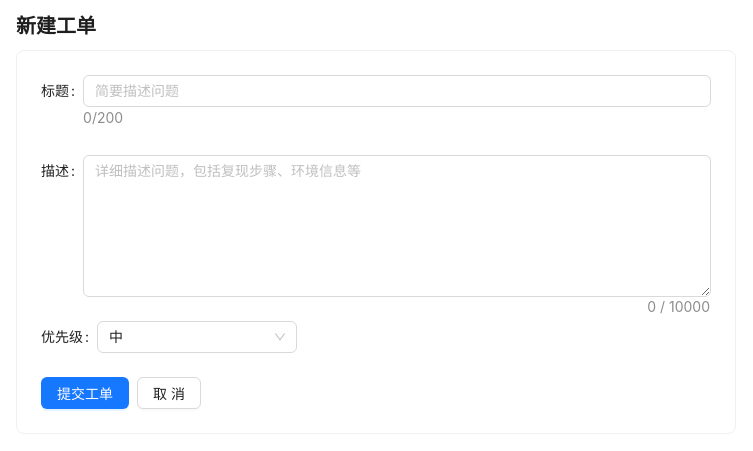
Scenario: NewTicketPage › shows validation errors for empty form
Click the button "提交工单": [85, 393] box [41,377,129,409]
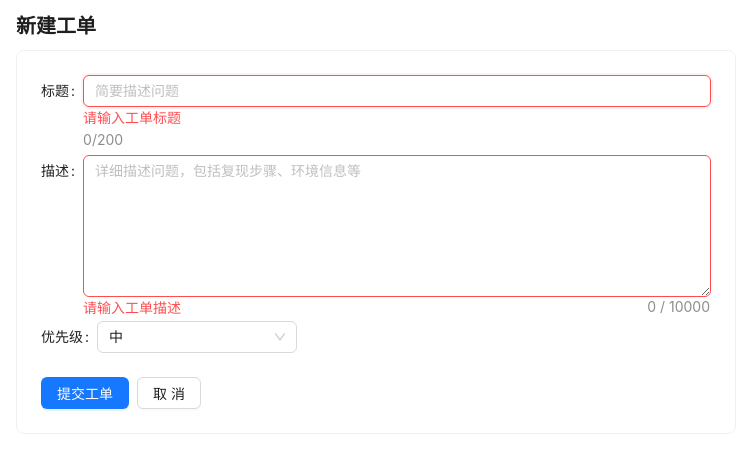
expect the text "请输入工单标题" is shown: met, box [83,109,181,126]
expect the text "请输入工单描述" is shown: met, box [83,299,181,316]
